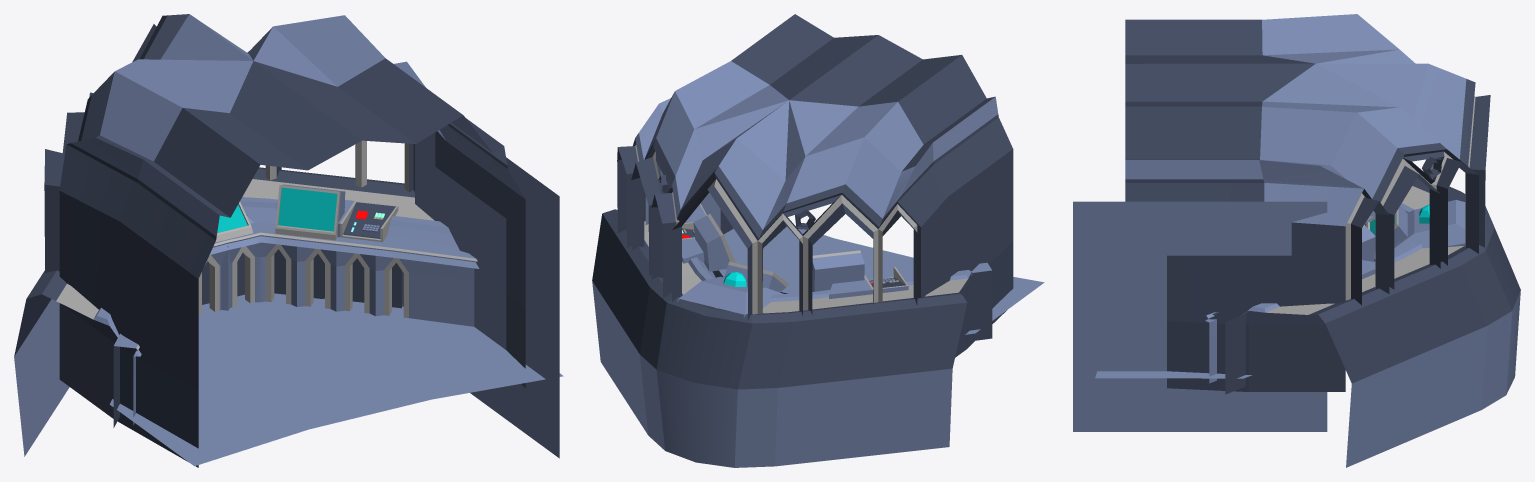
Rendered from spaceship.fbx.
The picture shows the model from 3 angles, left to right: view 1: azimuth 30°, elevation 25°; view 2: azimuth 150°, elevation 25°; view 3: azimuth 270°, elevation 25°; orthographic projection. The views are drawn at different scales.
Visible parts, largest first — view 1: spaceship_mesh1; view 2: spaceship_mesh1; view 3: spaceship_mesh1.
Part boxes in pixels (x1,y1,x2,y2): spaceship_mesh1: (14, 14, 563, 467); spaceship_mesh1: (592, 14, 1044, 467); spaceship_mesh1: (1073, 14, 1520, 467).
Size of the model in its own units: 6.9 by 5.31 by 6.87.
